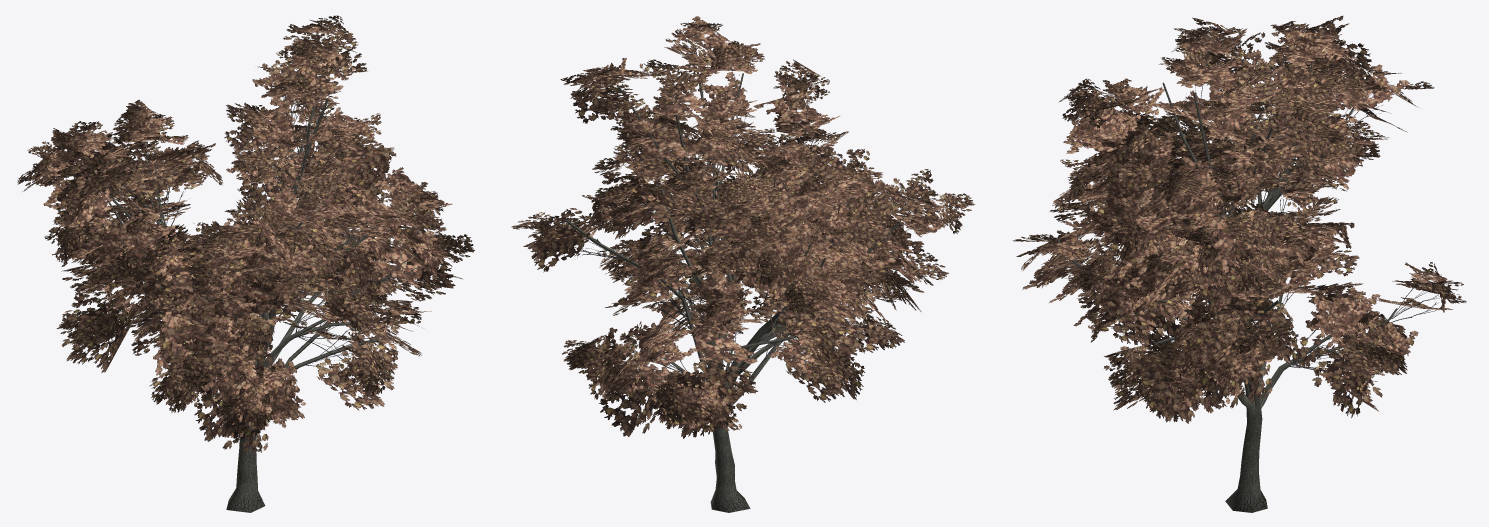
Rendered from American_Elm.fbx.
3 views of the same model, side by side, from view 1: azimuth 30°, elevation 25°; view 2: azimuth 150°, elevation 25°; view 3: azimuth 270°, elevation 25° (orthographic). The views are drawn at different scales.
Visible parts, largest first — view 1: Leaves_2, Leaves_1, Tree, Branch; view 2: Leaves_2, Leaves_1, Tree, Branch; view 3: Leaves_2, Leaves_1, Tree, Branch.
Part boxes in pixels (x1,y1,x2,y2): Leaves_2: (17, 15, 474, 452); Leaves_1: (34, 23, 465, 427); Tree: (61, 63, 403, 512); Branch: (67, 36, 441, 404); Leaves_2: (511, 22, 974, 438); Leaves_1: (523, 16, 952, 425); Tree: (565, 72, 900, 512); Branch: (551, 39, 938, 399); Leaves_2: (1013, 17, 1466, 423); Leaves_1: (1016, 15, 1458, 408); Tree: (1057, 31, 1397, 512); Branch: (1061, 36, 1442, 381).
Bounding box in the file's own units: 21.71 × 21.72 × 18.57.
